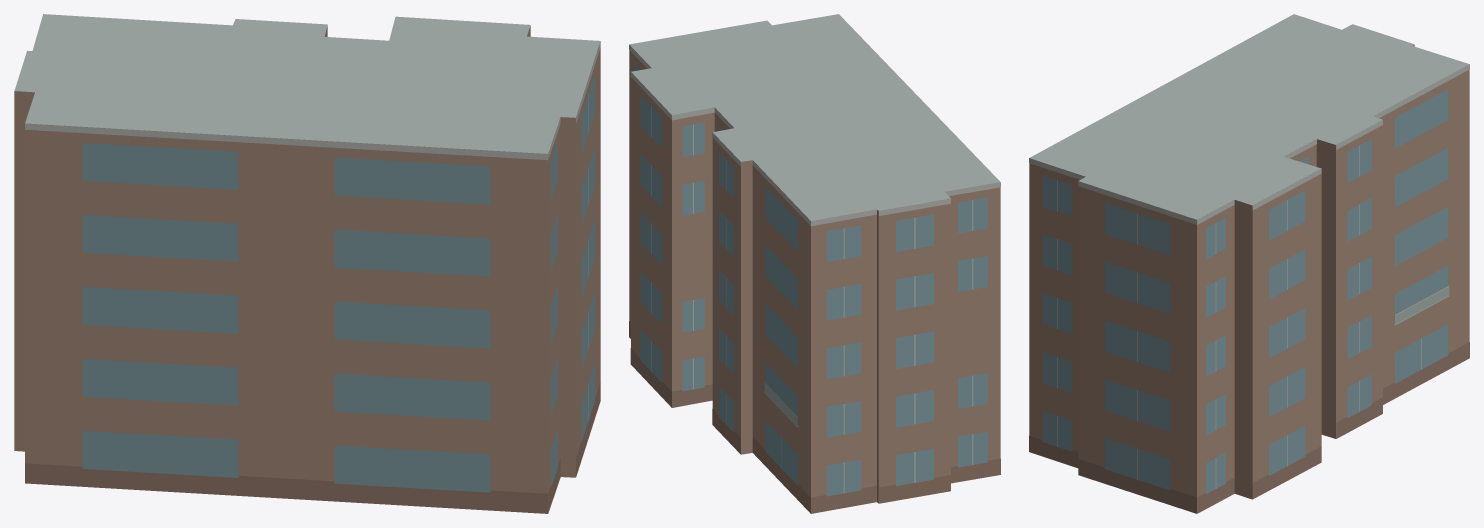
File: survey-upis-32902089.glb
3 views of the same model, side by side, from view 1: azimuth 30°, elevation 25°; view 2: azimuth 150°, elevation 25°; view 3: azimuth 270°, elevation 25° (orthographic). The views are drawn at different scales.
Visible parts, largest first — view 1: survey-upis-32902089.tmp; view 2: survey-upis-32902089.tmp; view 3: survey-upis-32902089.tmp.
Part boxes in pixels (box(x1,y1,x2,y2)): survey-upis-32902089.tmp: box(14, 14, 600, 513); survey-upis-32902089.tmp: box(629, 14, 1000, 513); survey-upis-32902089.tmp: box(1029, 14, 1469, 513).
Size of the model in its own units: 20.86 by 13.89 by 18.87.
